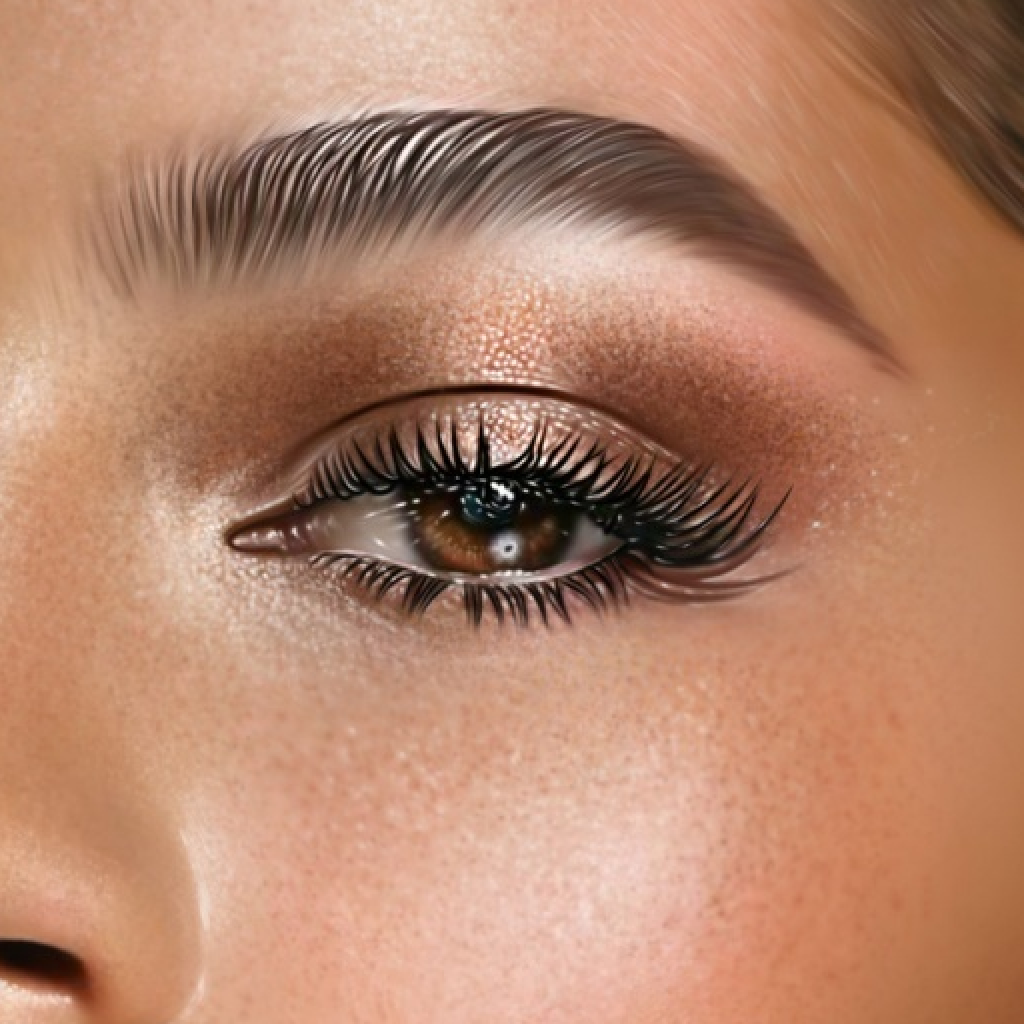iris: (404, 479, 580, 574)
pupil: (455, 479, 540, 533)
sclera: (228, 486, 433, 571), (549, 515, 620, 576)
